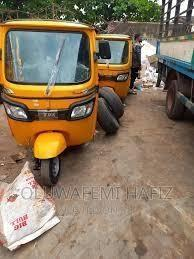keke: (2, 18, 101, 184), (96, 31, 134, 102)
